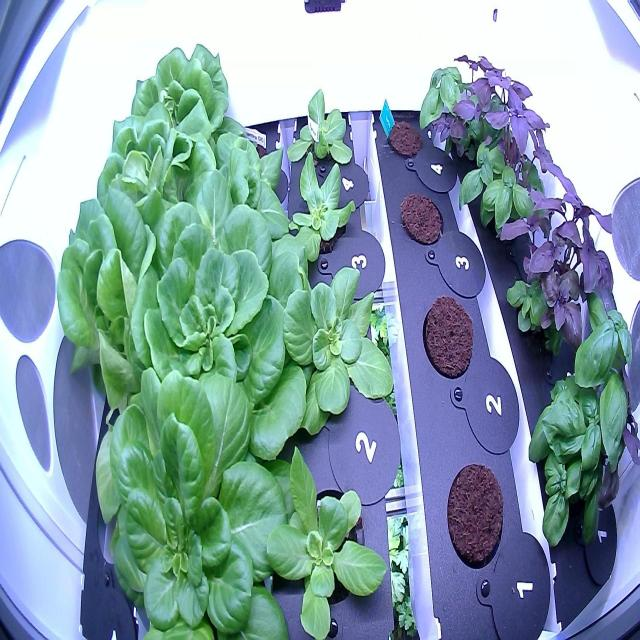Ready: (48, 152, 198, 406), (86, 103, 215, 251), (125, 31, 239, 179)
empty_pod: (86, 447, 162, 592)
pod: (438, 450, 510, 584), (418, 288, 484, 392), (394, 177, 451, 258), (382, 105, 428, 168)
young: (96, 351, 296, 639), (116, 186, 314, 468), (260, 438, 390, 640), (277, 251, 397, 454), (181, 127, 293, 243), (284, 143, 365, 276), (283, 82, 358, 179)
